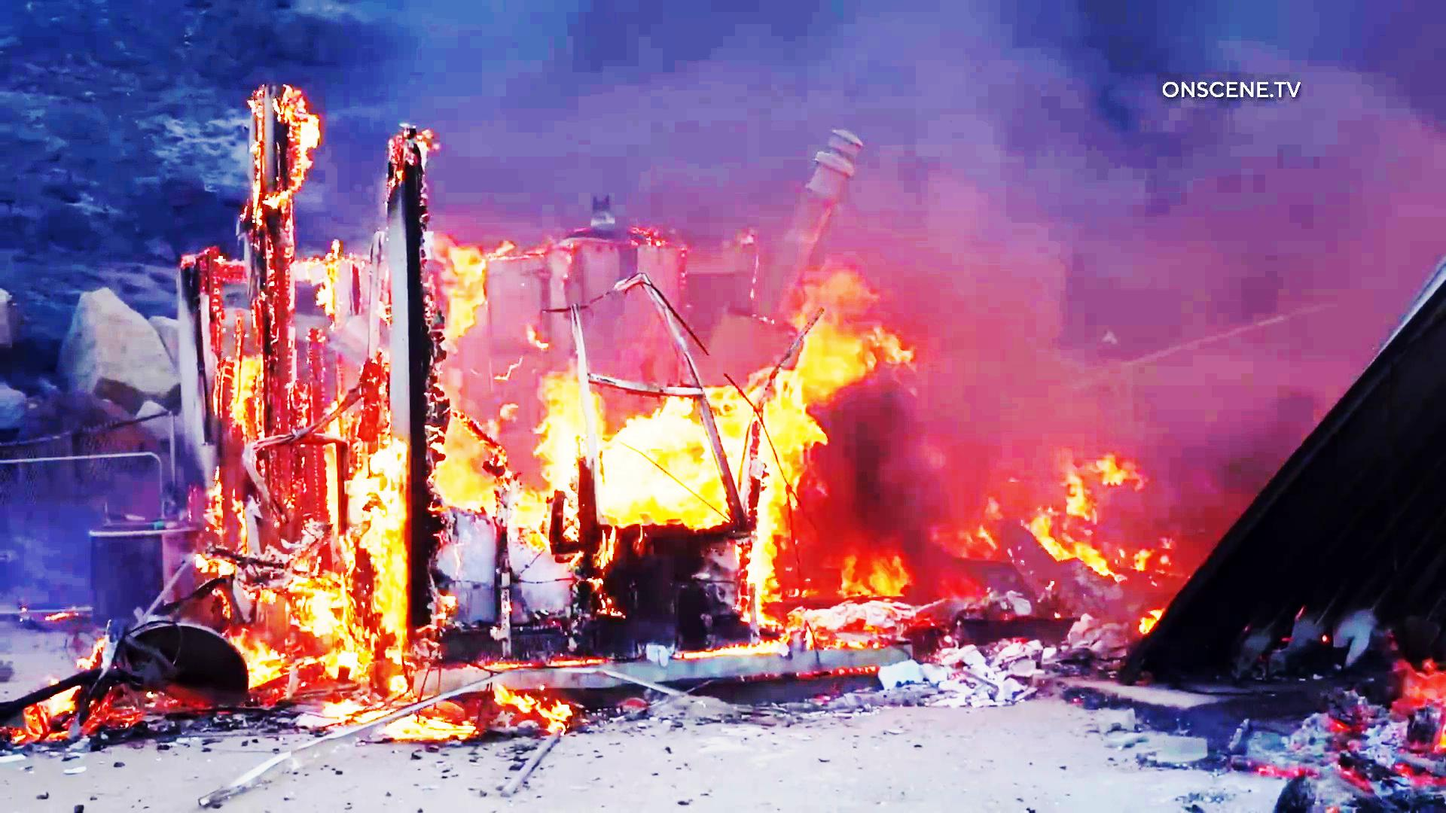fire: (942, 211, 1296, 422), (596, 396, 748, 520)
